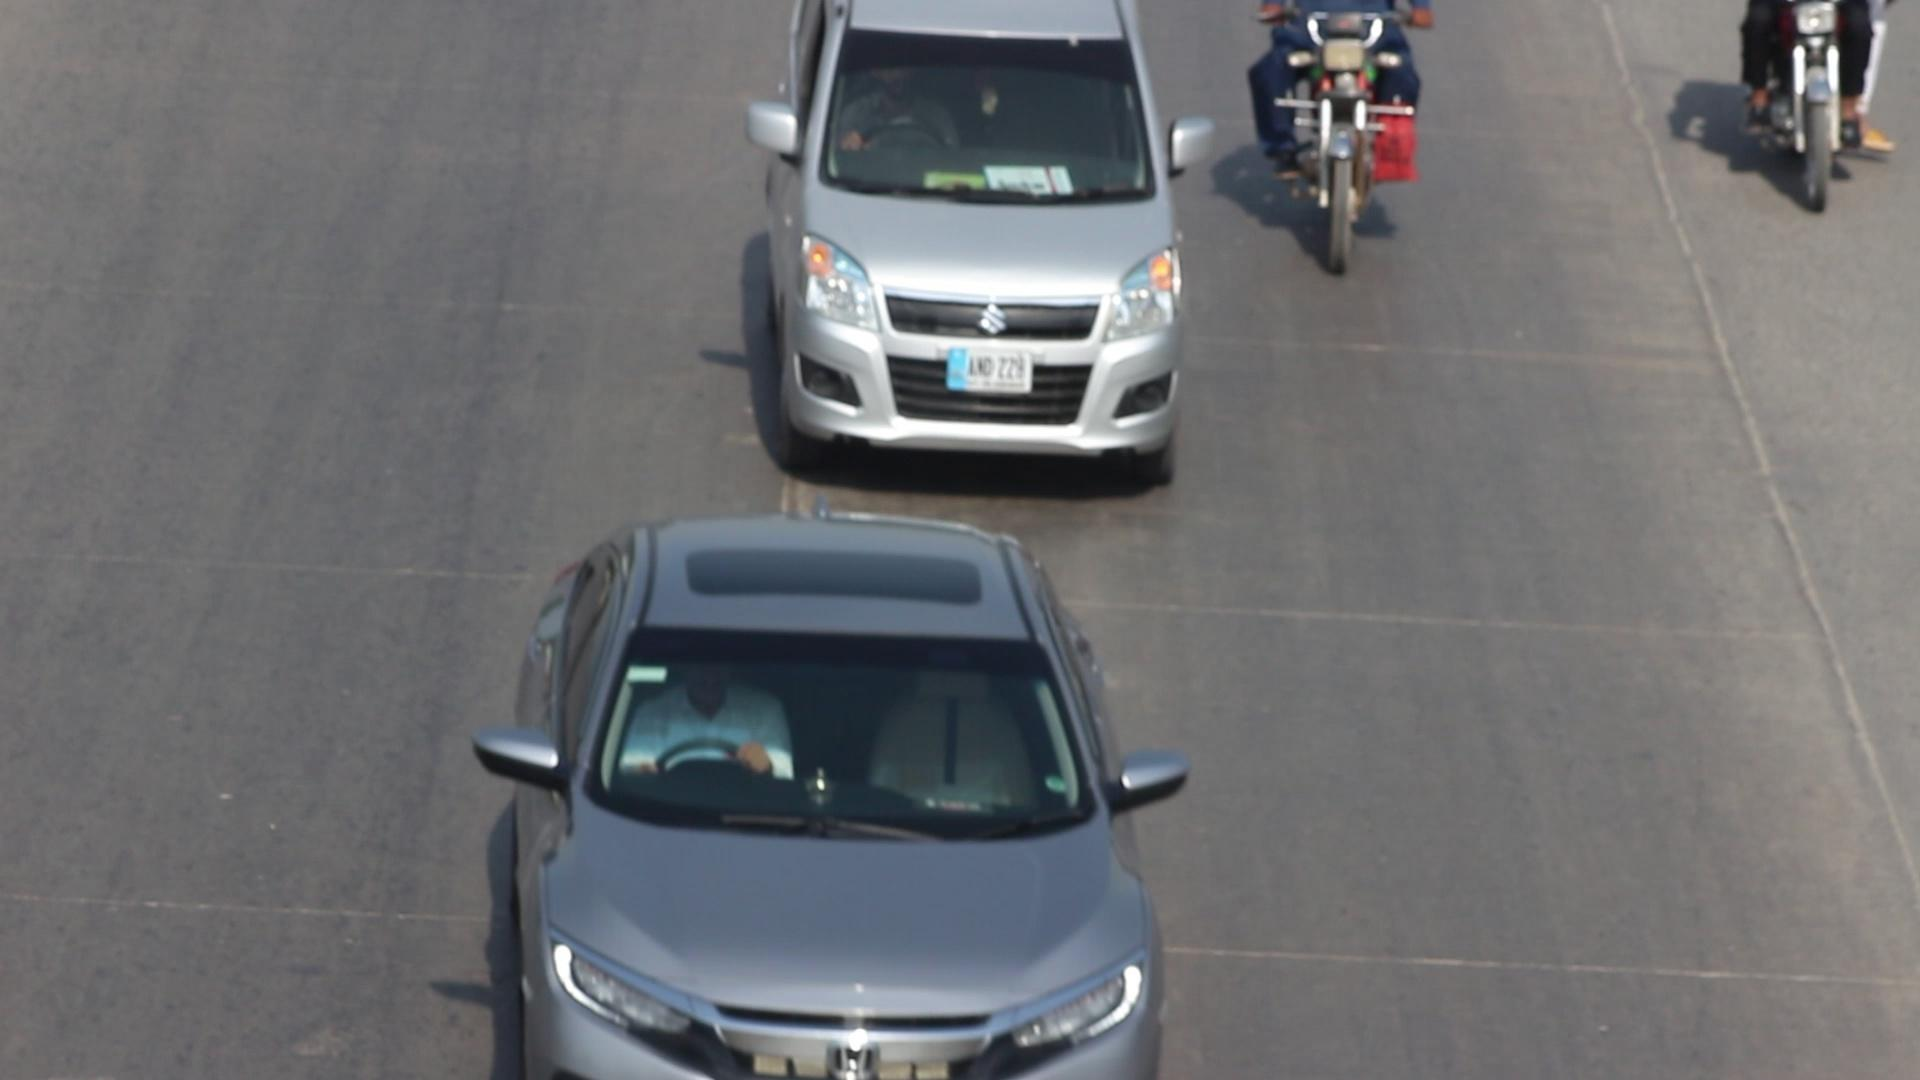windshield: (574, 596, 1104, 853), (811, 13, 1167, 203)
